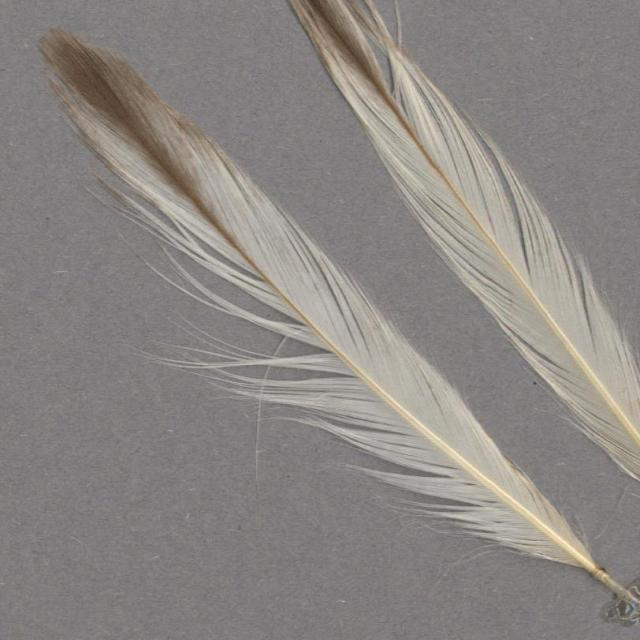feather: (38, 26, 640, 621), (290, 0, 640, 487)
